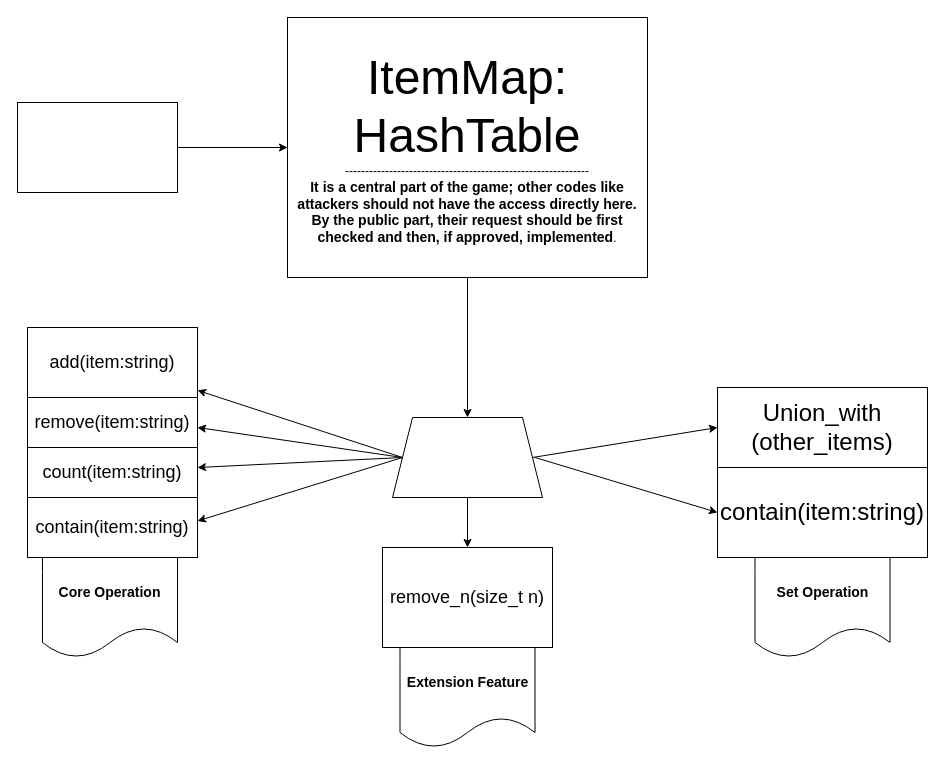
Some shapes in this 945 by 765 pixel diagram are drawn without their labels. The box of each missing label's shape, as (x1, y1, x2, y2) in pixels:
Private Internal Member (-): (16, 102, 178, 192)
Public Interface (+): (392, 416, 542, 498)
